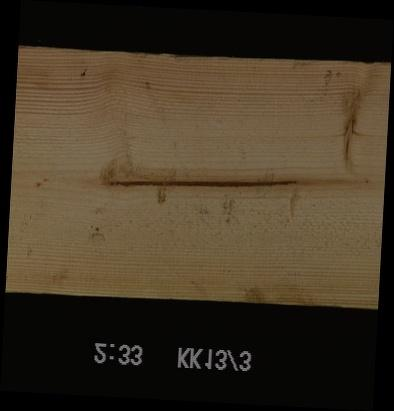small_knot: (357, 173, 374, 189)
